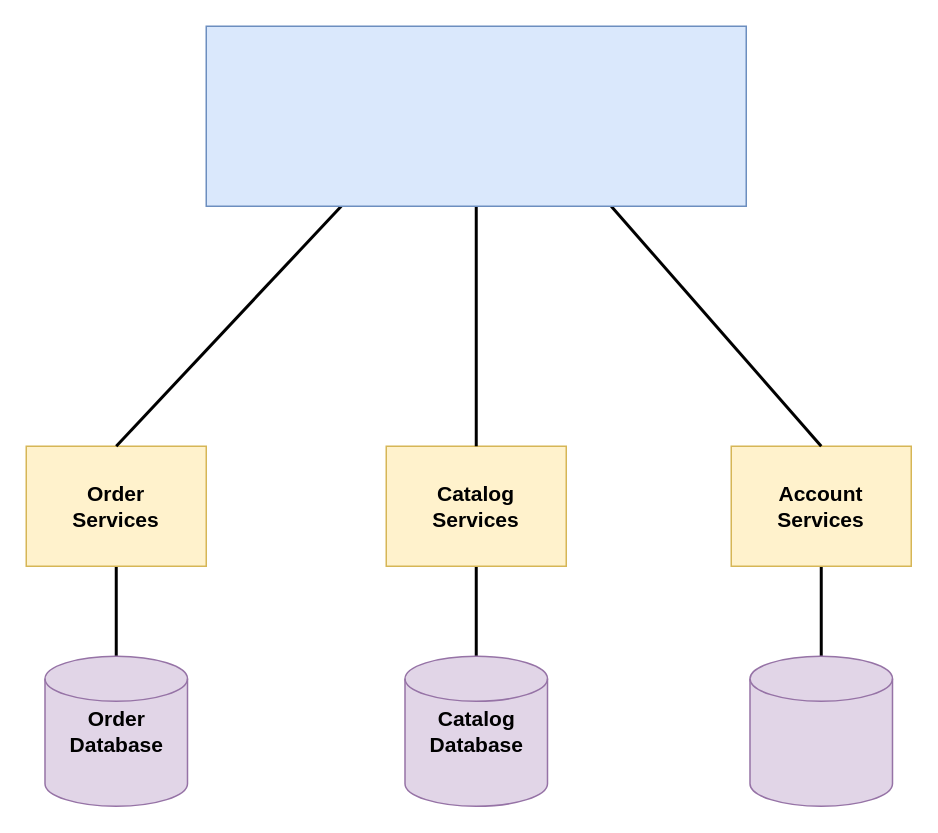
Image size: 938x833. Some labels were removed from this diagram. Here are the shapes that lost their labels. From the top down, the centre of each, then its label:
the point at 475,115: User Interface
the point at 820,730: Account Database
